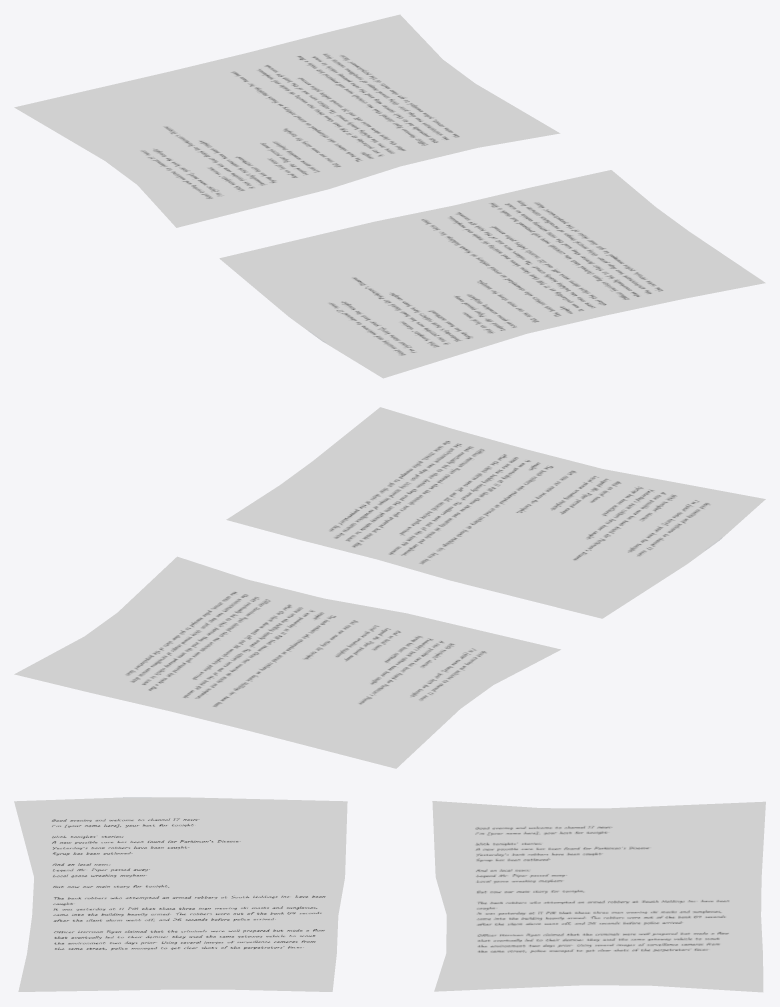
Rendered from Paper_textured.fbx.
3 renders of one model, top to bottom at view 1: azimuth 30°, elevation 25°; view 2: azimuth 150°, elevation 25°; view 3: azimuth 270°, elevation 25°, orthographic.
Parts seen in each view (by area): view 1: pPlane2, pPlane1; view 2: pPlane2, pPlane1; view 3: pPlane2, pPlane1.
Part boxes in pixels (x1,y1,x2,y2): pPlane2: [219, 170, 765, 378]; pPlane1: [14, 14, 560, 227]; pPlane2: [226, 407, 765, 618]; pPlane1: [14, 556, 560, 768]; pPlane2: [14, 797, 347, 991]; pPlane1: [432, 801, 765, 992].
Size of the model in its own units: 0.2415 by 0 by 0.3935.
Materials: 1 (1 with a texture image).
